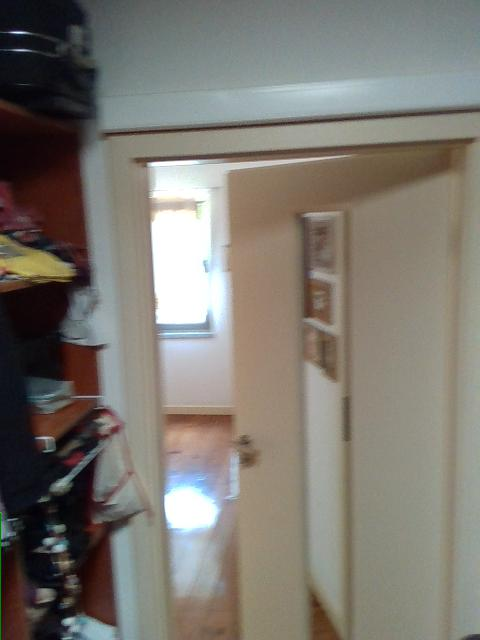semi_door: (86, 98, 478, 639)
